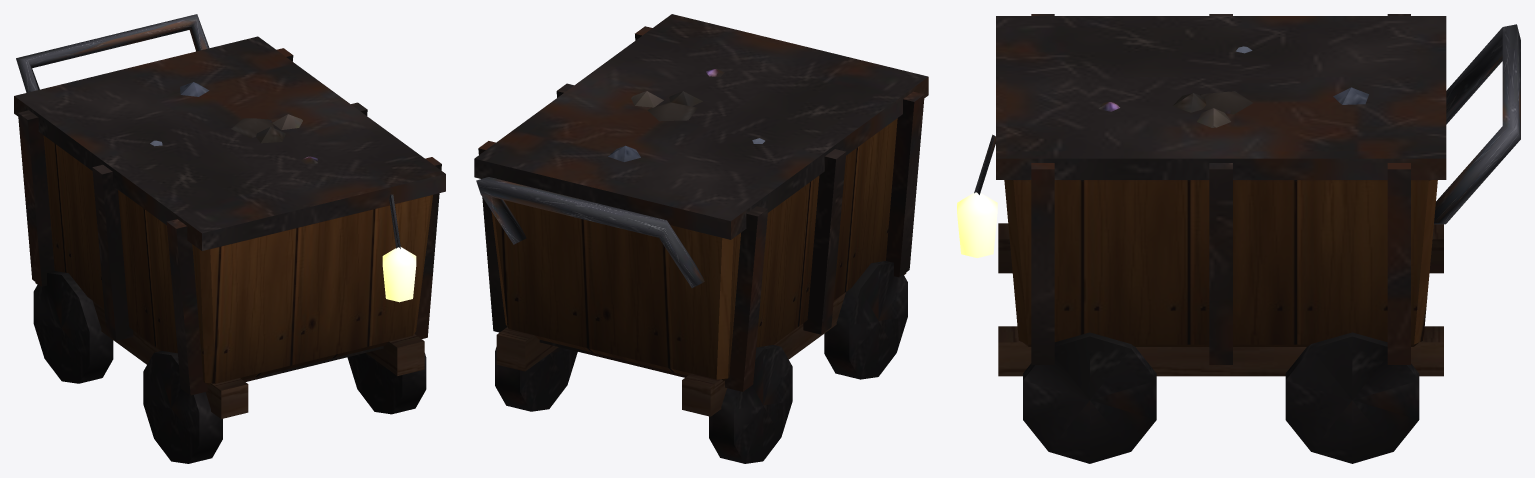
Rendered from cave_cart.glb.
The picture shows the model from 3 angles, left to right: view 1: azimuth 30°, elevation 25°; view 2: azimuth 150°, elevation 25°; view 3: azimuth 270°, elevation 25°; orthographic projection. The views are drawn at different scales.
Visible parts, largest first — view 1: cave_cart; view 2: cave_cart; view 3: cave_cart.
Part boxes in pixels (x1,y1,x2,y2): cave_cart: (14,14,445,463); cave_cart: (474,14,928,463); cave_cart: (957,14,1520,463).
Size of the model in its own units: 0.784 by 0.7572 by 1.2.
6 materials, 5 textured.
